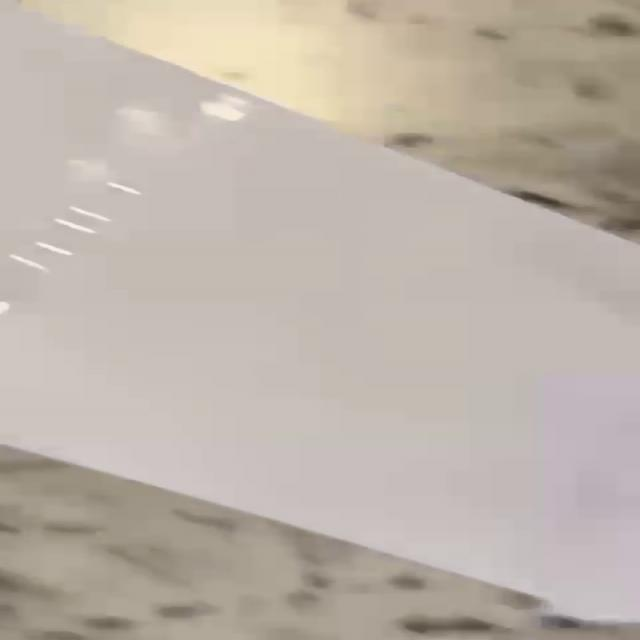road: (0, 4, 640, 626)
